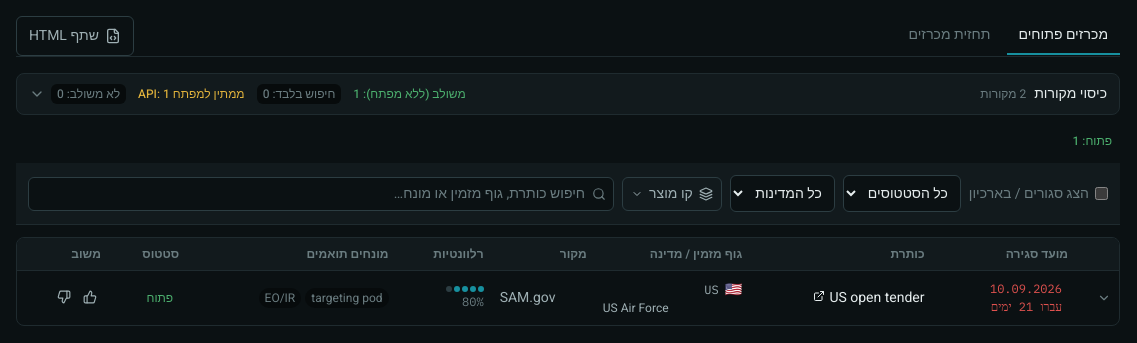
Test: TendersPage — open tenders tab › re-queries with an explicit status when the status filter changes, bypassing the default view
Expected: the text "US open tender" is shown, [829,288,925,308]
Select "הוענק" in the dropdown named "סינון לפי סטטוס" at {"x": 902, "y": 194}, box [843,175,961,212]
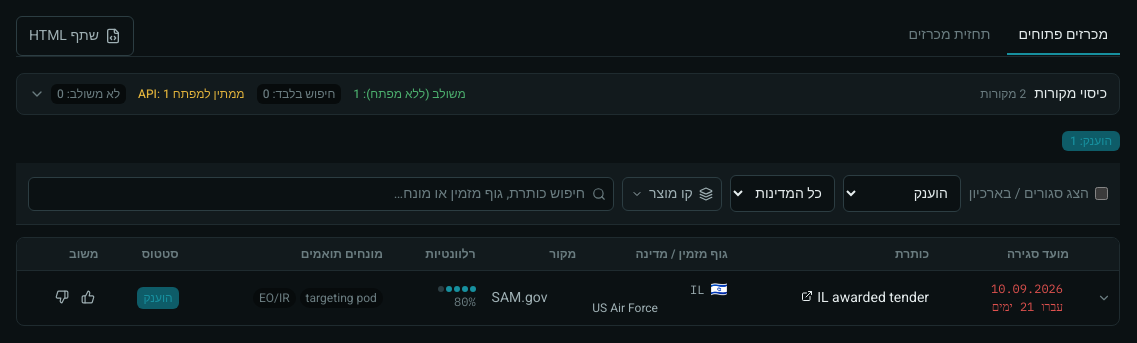
Result: the text "IL awarded tender" is shown at [817,288,929,308]
Result: the link "US open tender" is gone
